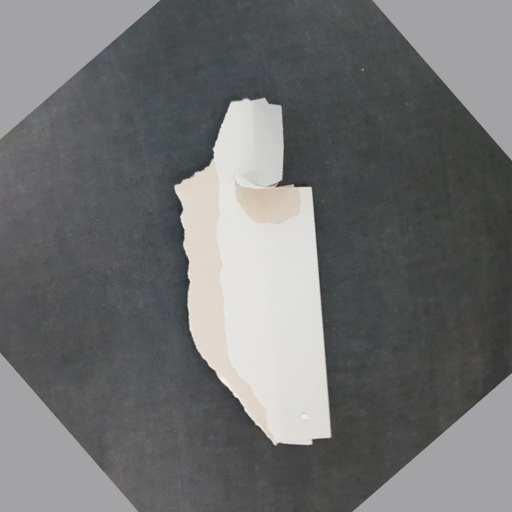Paper_3: (173, 90, 358, 452)
